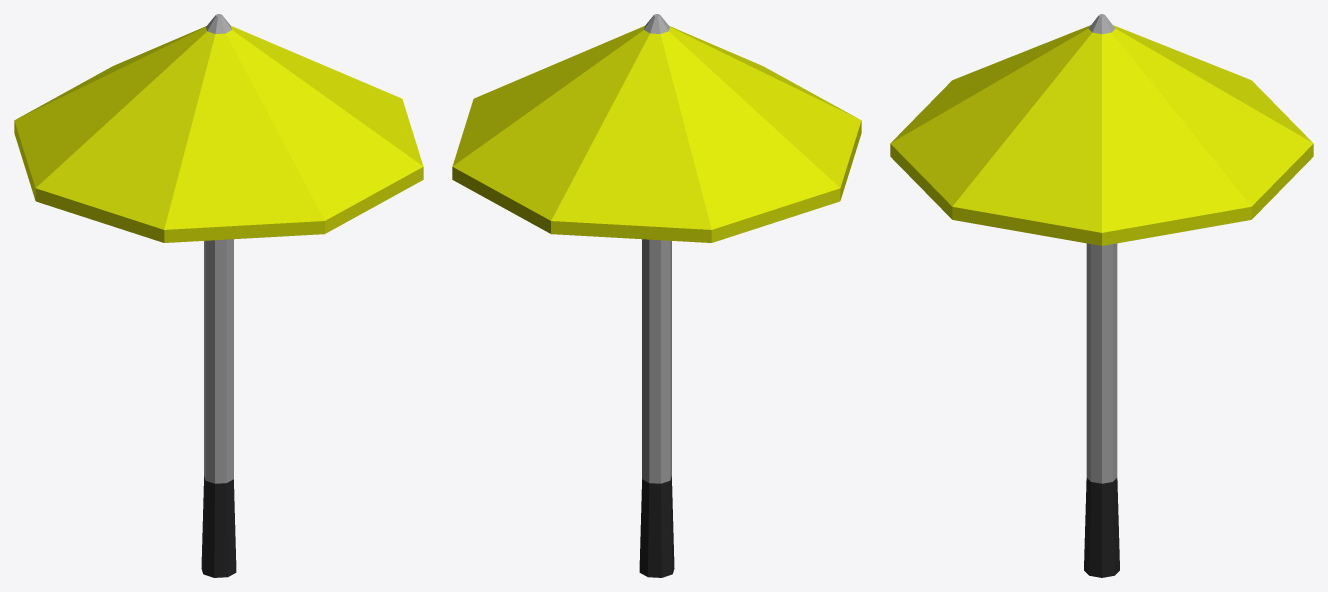
File: umbrella_open.fbx
3 renders of one model, left to right at view 1: azimuth 30°, elevation 25°; view 2: azimuth 150°, elevation 25°; view 3: azimuth 270°, elevation 25°, orthographic.
Visible parts, largest first — view 1: Cylinder; view 2: Cylinder; view 3: Cylinder.
Part boxes in pixels (x1,y1,x2,y2): Cylinder: [14, 14, 423, 577]; Cylinder: [452, 14, 861, 577]; Cylinder: [890, 14, 1313, 577].
Bounding box in the file's own units: 584 × 845 × 584.
